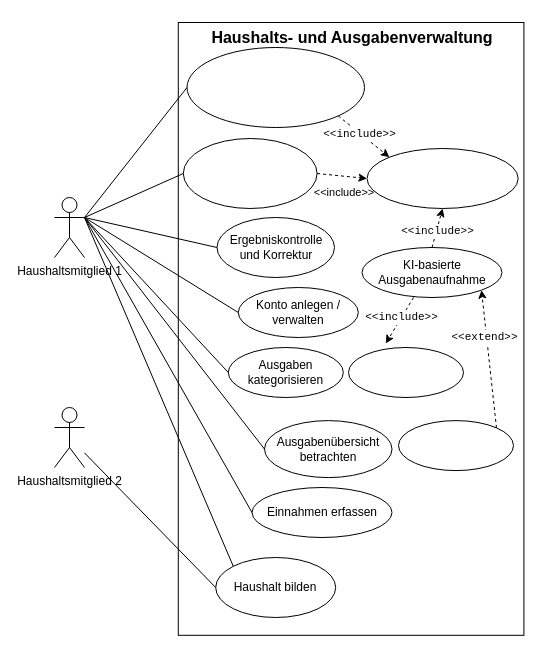
Some shapes in this 542 by 653 pixel diagram are drawn without their labels. The centre of each missing label's shape, as x and y in pixels:
"Datenüberführung und -speicherung" belongs at [442,178].
"Manuelle Ausgabenerfassung" belongs at [249,173].
"Neuronales Netzwerk" belongs at [406,372].
"Optische Zeichenerkennung" belongs at [456,445].
"Übergebe Fotokopie einer Rechnung / automatisierte Erfassung" belongs at [275,87].
